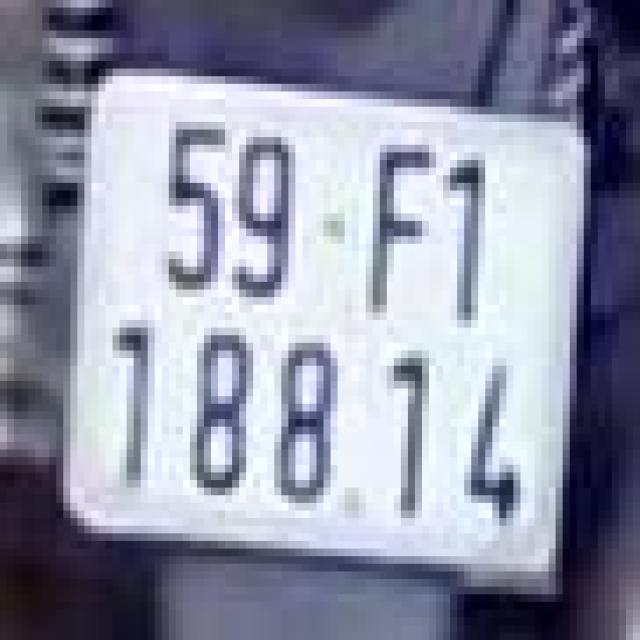1: (376, 339, 440, 530), (450, 144, 506, 328), (109, 305, 151, 495)
4: (450, 335, 535, 541)
5: (158, 110, 236, 308)
8: (179, 305, 257, 510), (271, 320, 348, 510)
9: (229, 122, 313, 305)
F: (355, 126, 440, 331)
